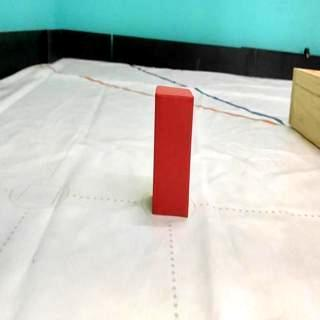redbox: (153, 84, 195, 218)
